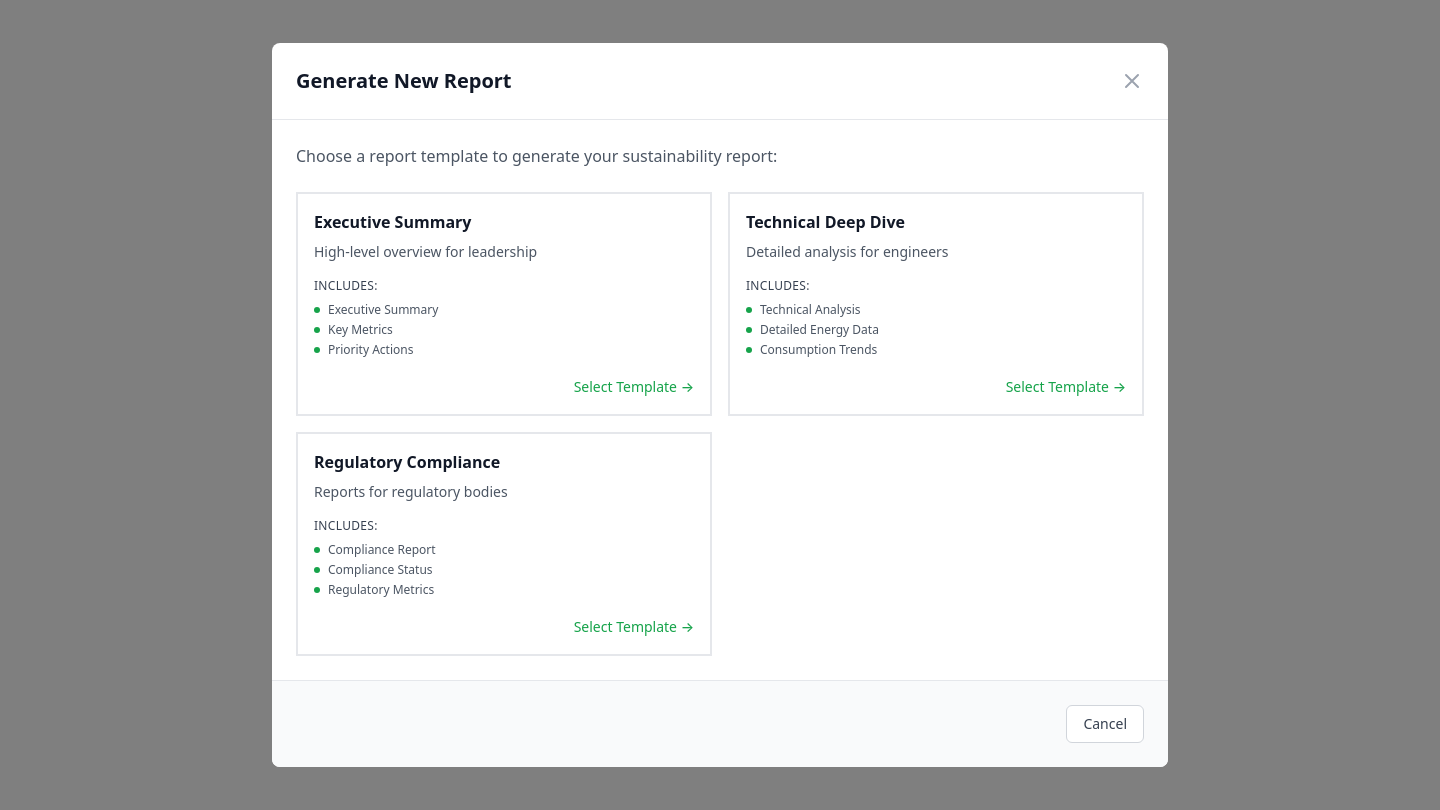
ReportGenerationModal › Template Cards Interaction › should select technical deep dive template
This screenshot has width=1440, height=810.
// Find and click the technical deep dive template
Click the text "Technical Deep Dive". click: (936, 304)
box: left=728, top=192, right=1144, bottom=416
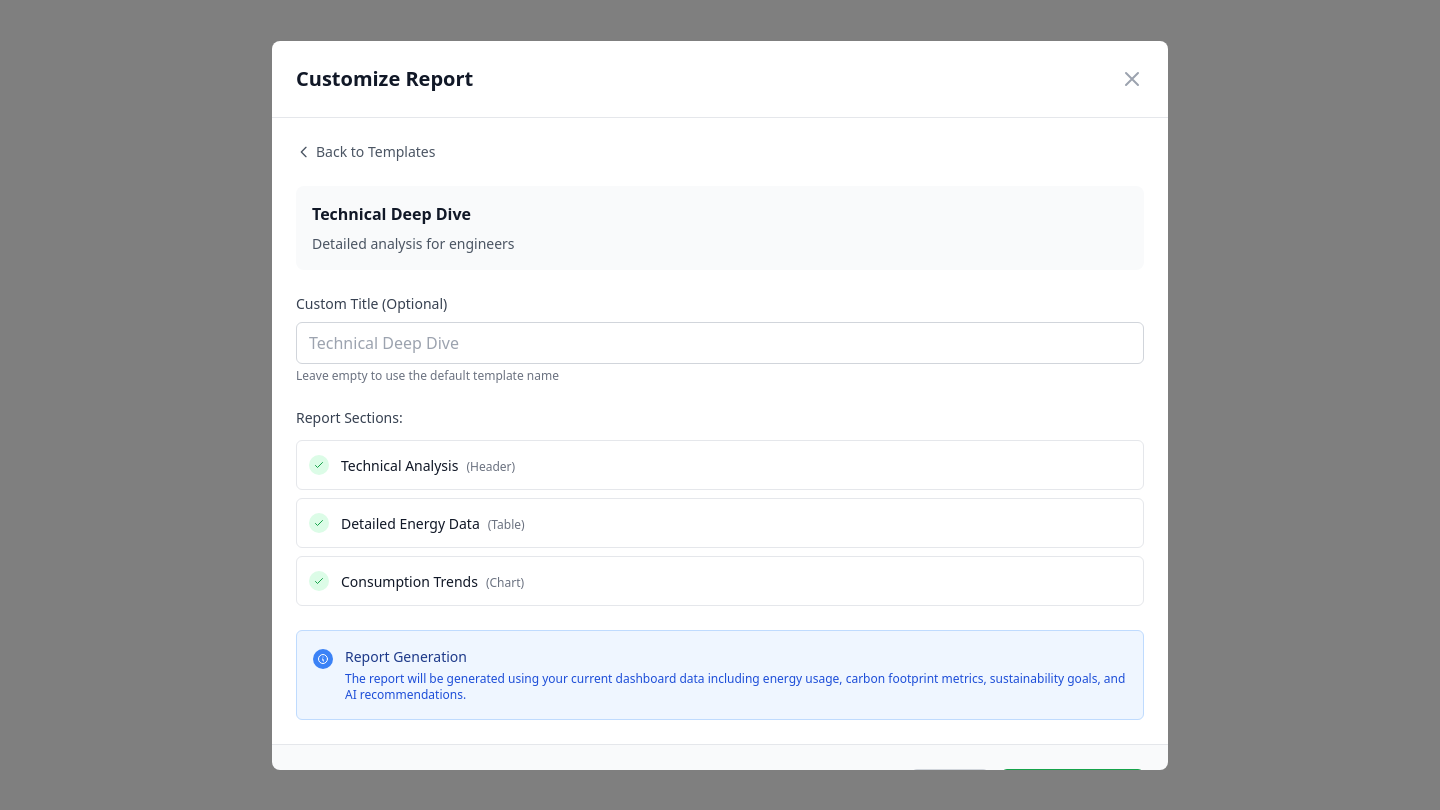
Expected: the heading "Technical Deep Dive" is shown, left=312, top=202, right=471, bottom=224
Expected: the heading "Customize Report" is shown, left=296, top=64, right=473, bottom=92
